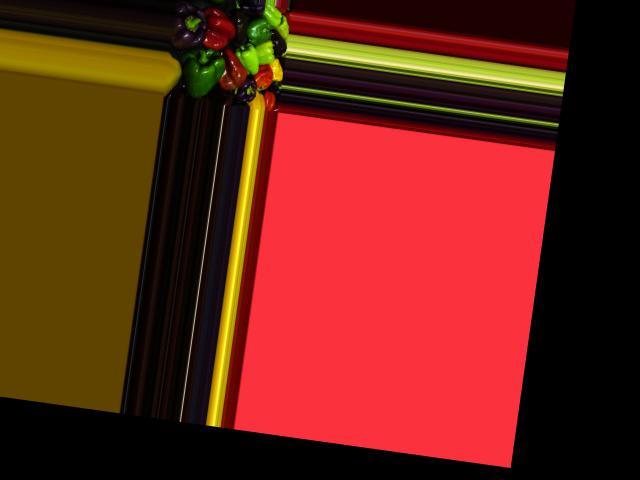bell_pepper: (233, 75, 262, 107)
